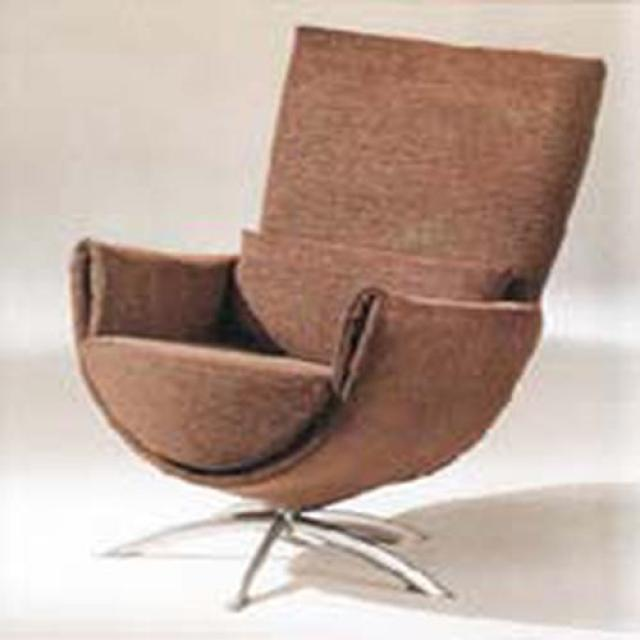swivelchair: (68, 26, 608, 612)
